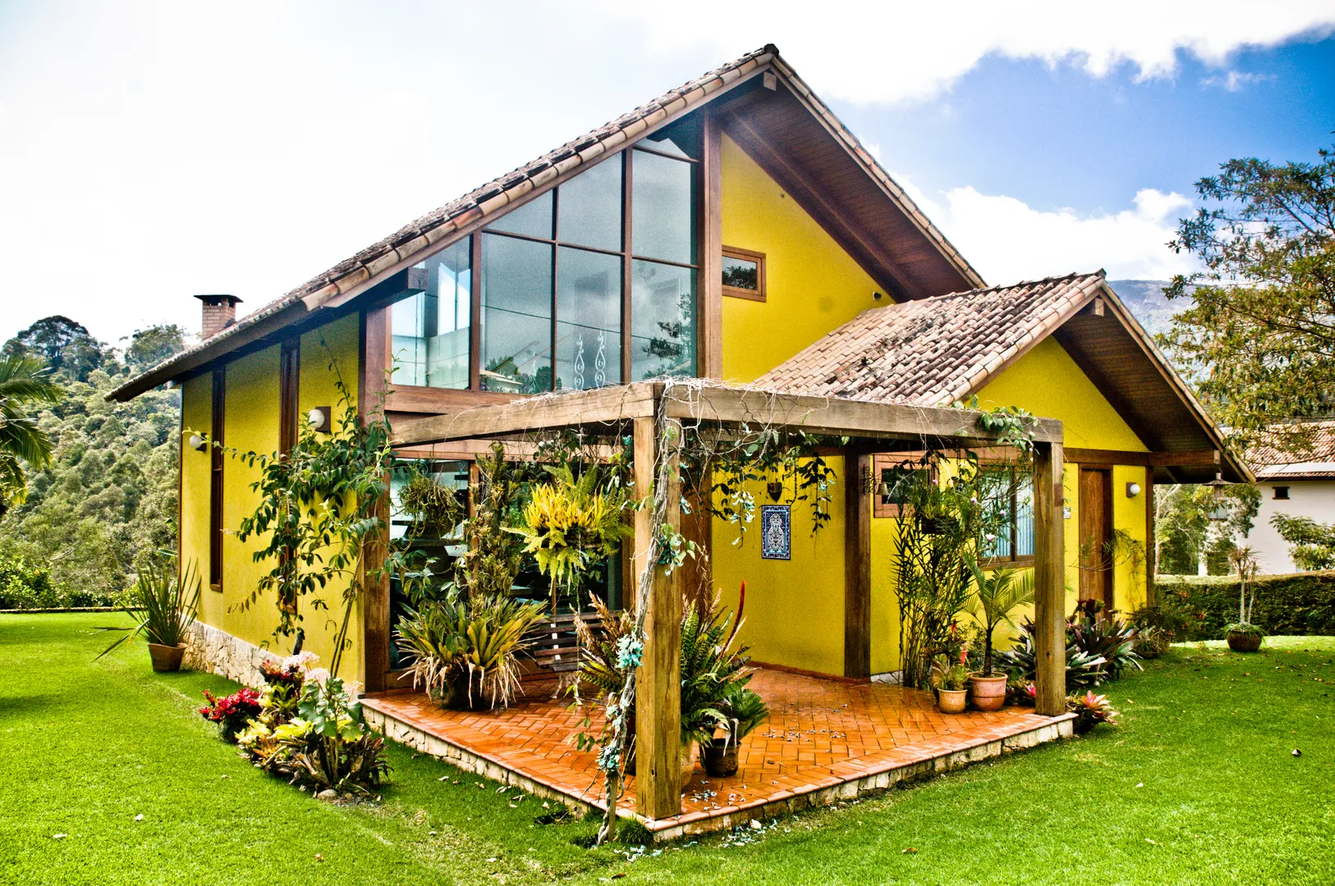House: (179, 86, 1185, 783)
